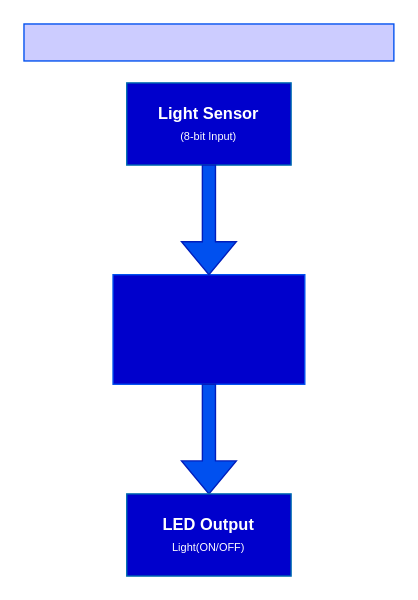
This 418x600 diagram has some shape labels left out. The box of each missing label's shape, as (x1, y1, x2, y2) in pixels:
GPIO-Controlled Smart Room Light: (23, 23, 394, 61)
Moore FSM Controller State :OFF/ON Threshold Comparison: (112, 273, 305, 384)
